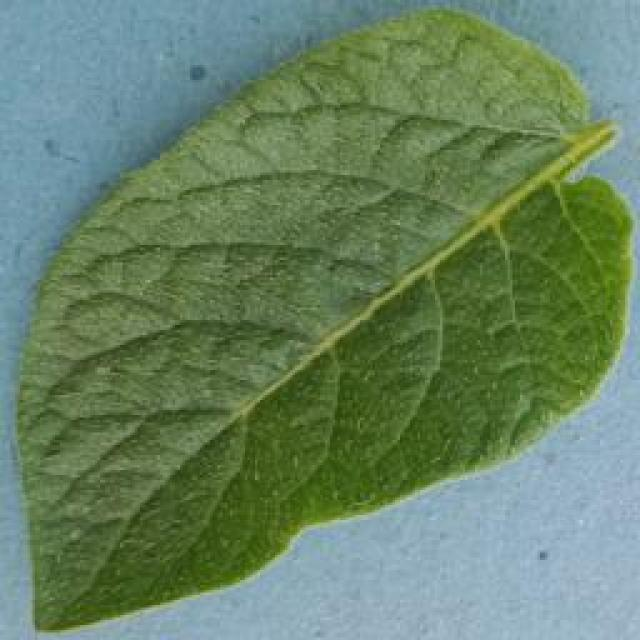Potato_Healthy: (7, 5, 640, 632)
